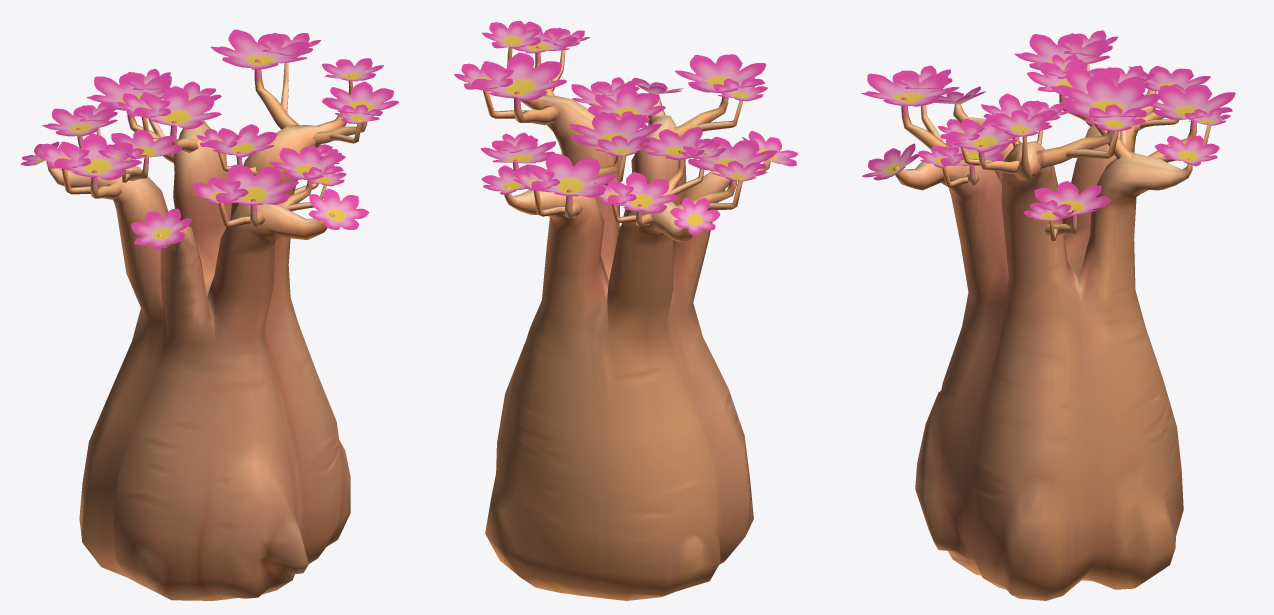
The model's file is AdeniumObesum_GEO.fbx.
3 renders of one model, left to right at view 1: azimuth 30°, elevation 25°; view 2: azimuth 150°, elevation 25°; view 3: azimuth 270°, elevation 25°, orthographic. The views are drawn at different scales.
Parts seen in each view (by area): view 1: AdeniumObesum_LOD0; view 2: AdeniumObesum_LOD0; view 3: AdeniumObesum_LOD0.
Part boxes in pixels (x1=…): AdeniumObesum_LOD0: x1=20, y1=29, x2=398, y2=600; AdeniumObesum_LOD0: x1=454, y1=21, x2=798, y2=600; AdeniumObesum_LOD0: x1=861, y1=30, x2=1235, y2=600.
Size of what is drawn, in the model's own units: 5.28 by 7.29 by 5.5.
